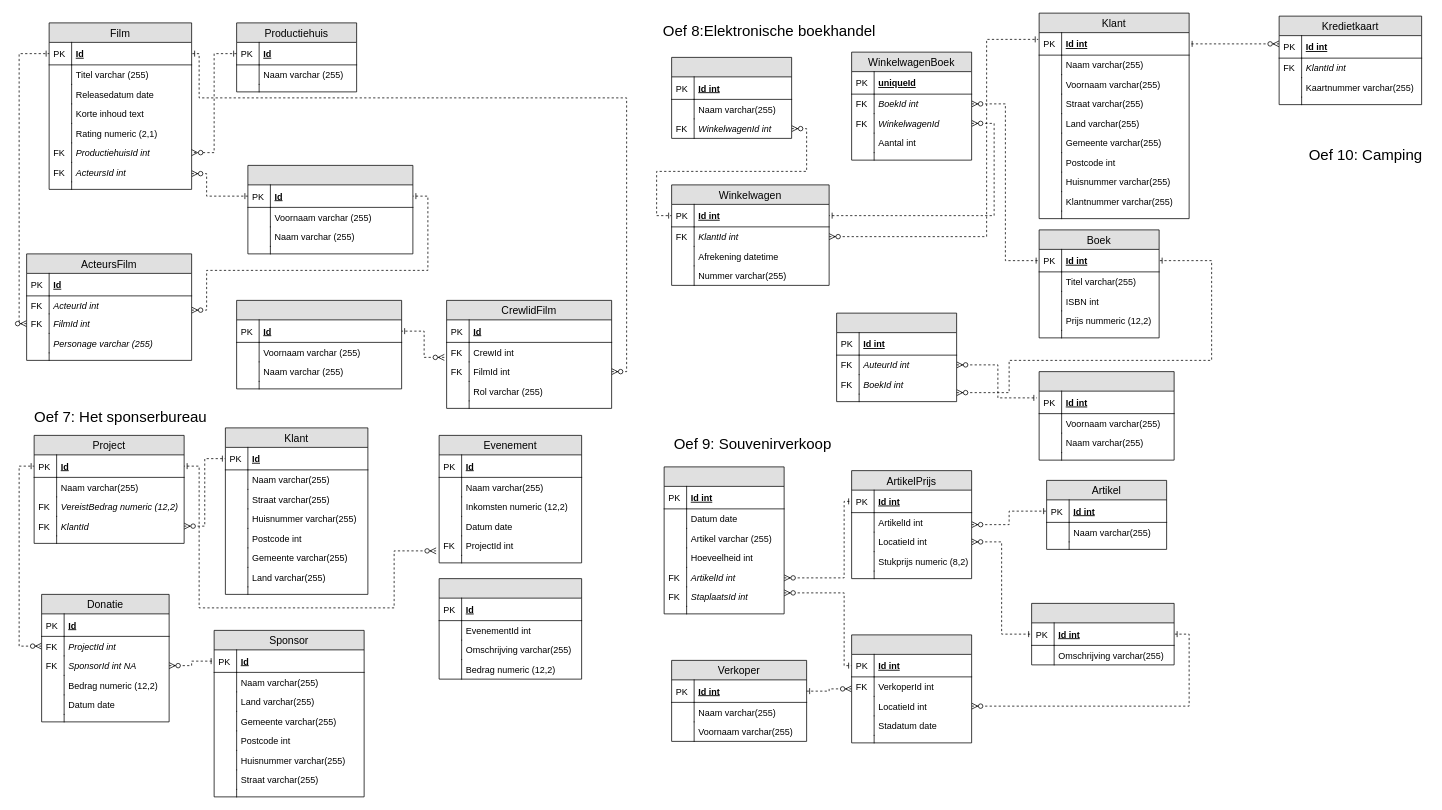
This 1442x810 diagram has some shape labels left out. The box of each missing label's shape, as (x1, y1, x2, y2) in pixels:
Acteurs: (247, 165, 413, 254)
Auteur: (1038, 371, 1174, 460)
BoekAuteur: (836, 312, 957, 402)
Bookshop: (671, 57, 792, 138)
Crewlid: (236, 300, 402, 389)
Evenementkost: (438, 578, 582, 679)
Locatie: (1031, 603, 1174, 665)
Staplaats: (851, 634, 972, 743)
Verkoop: (663, 466, 784, 614)
